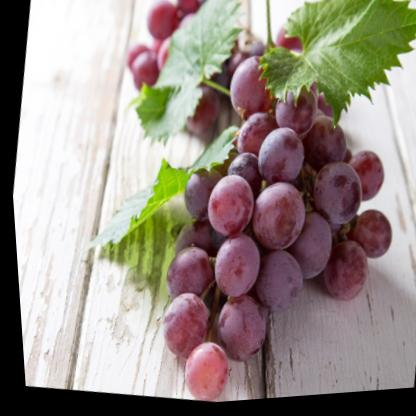grape: (56, 0, 416, 413)
